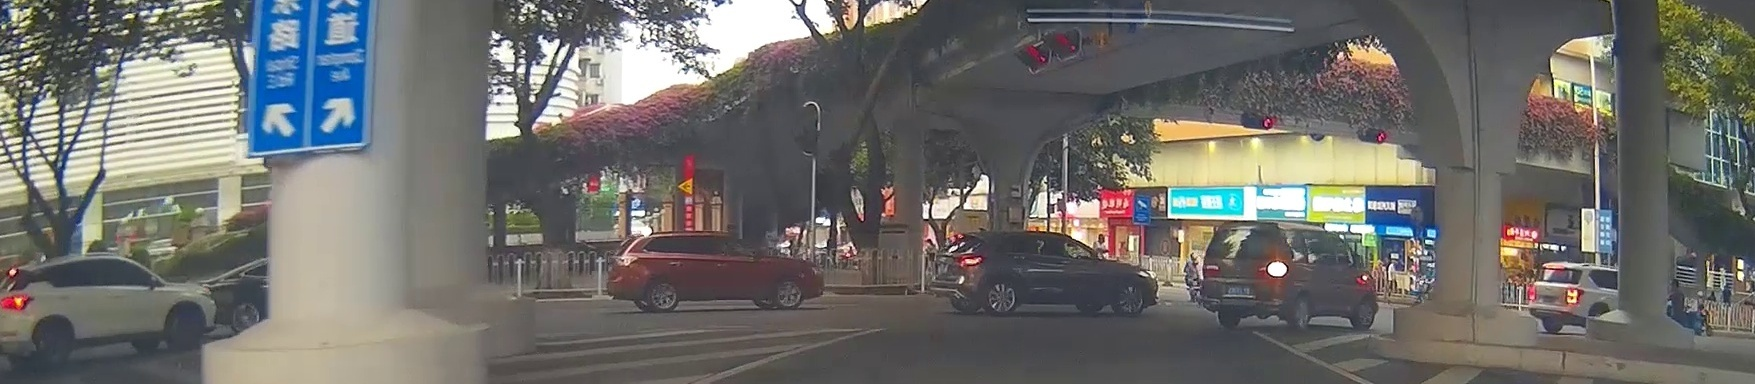L_light: (1202, 264, 1220, 277), (1528, 284, 1536, 301)
R_light: (1259, 262, 1288, 277), (1566, 288, 1584, 305)
T_light: (1231, 226, 1252, 230), (1547, 265, 1565, 269)
day-right: (1201, 221, 1292, 330), (1528, 262, 1589, 333)
